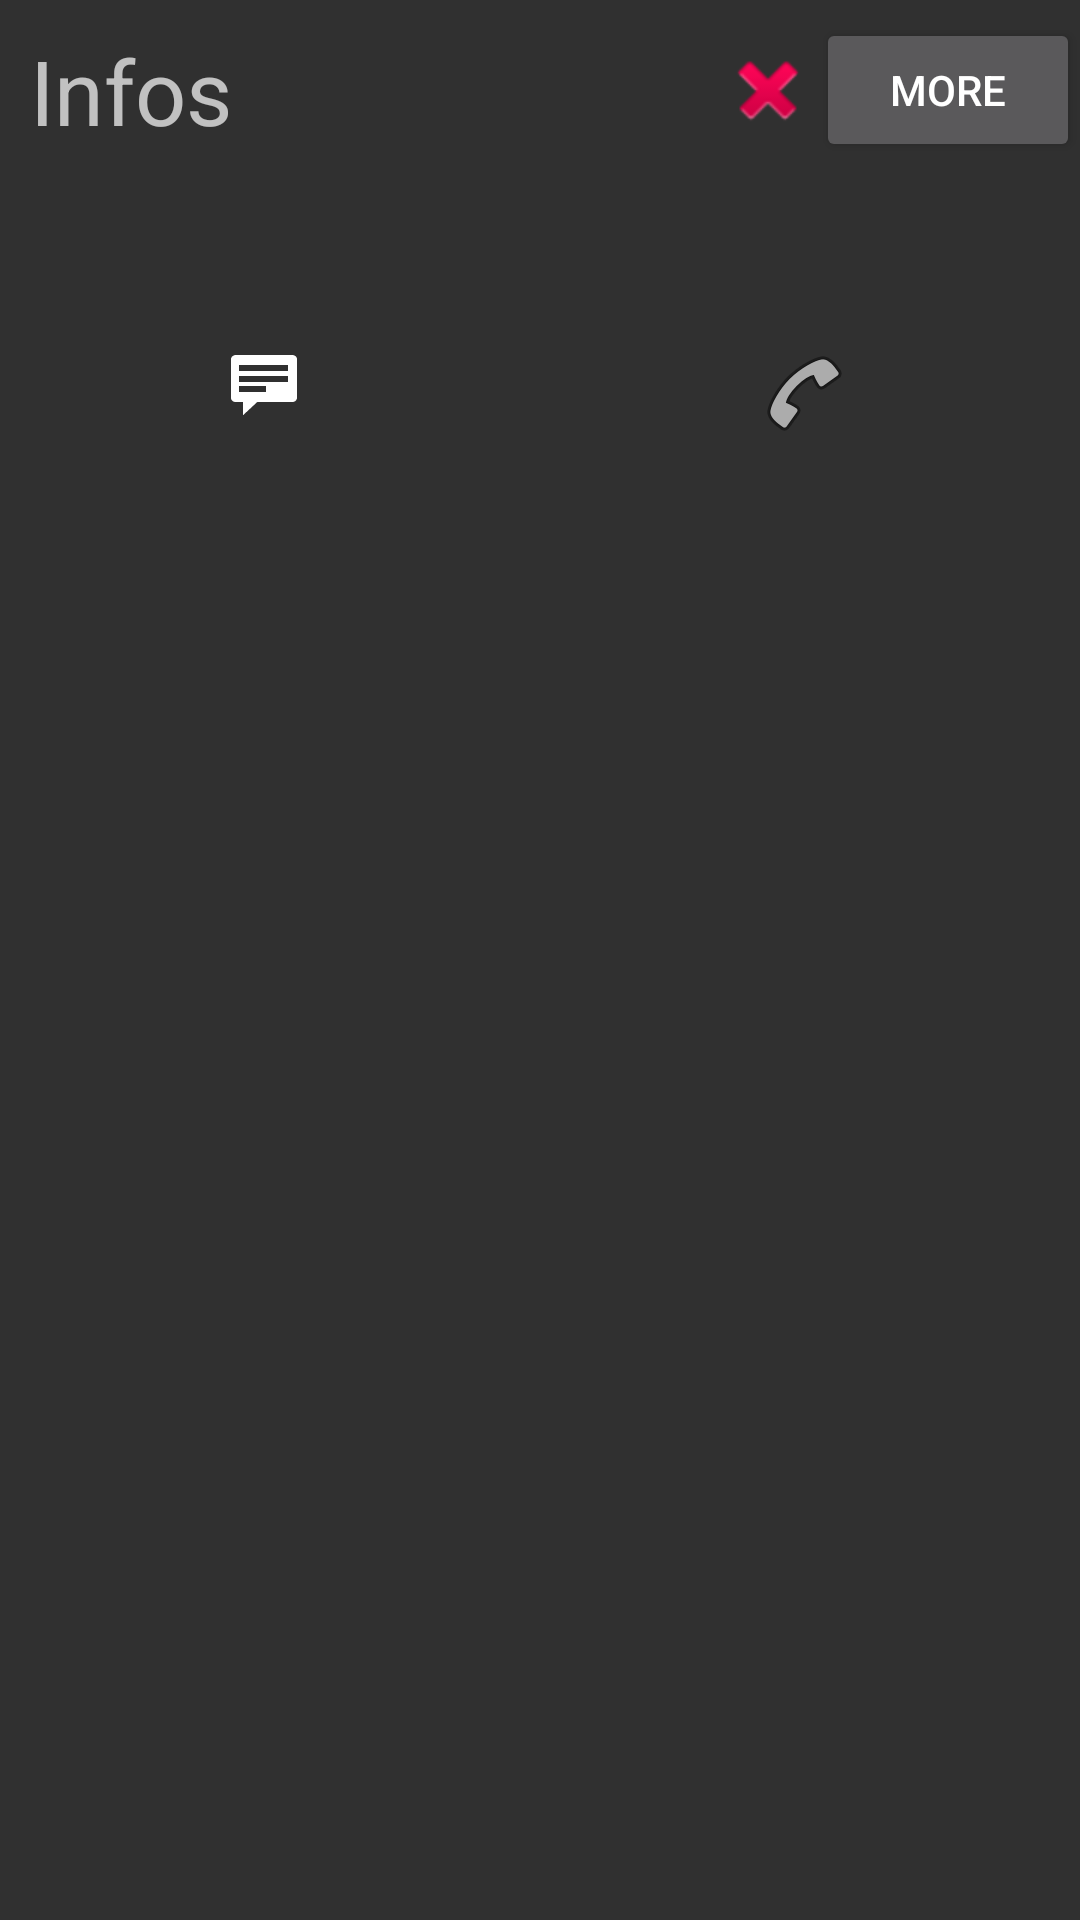

Named icons in this screenshot (1080x1920) and their centers, point (x, y):
call: point (804, 393)
chat: point (264, 385)
delete: point (768, 90)
